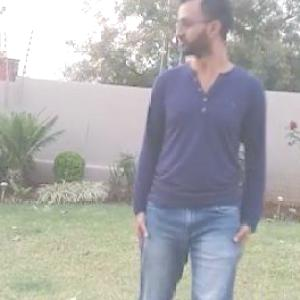follow: (123, 0, 266, 290)
